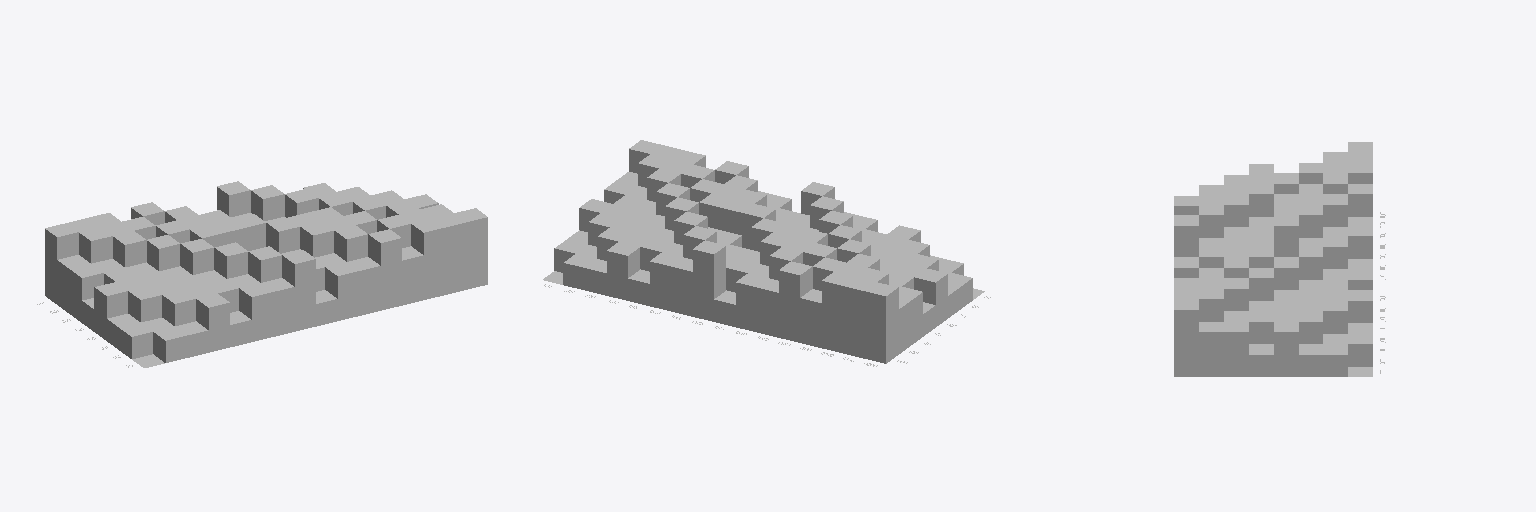
3 renders of one model, left to right at view 1: azimuth 30°, elevation 25°; view 2: azimuth 150°, elevation 25°; view 3: azimuth 270°, elevation 25°, orthographic.
Visible parts, largest first — view 1: Object(8,8)[length_3], Object(12,8)[length_3], Object(14,8)[length_3], Object(15,8)[length_3], Object(16,8)[length_3], Object(1,1)[length_3], Object(10,8)[length_2], Object(4,8)[length_2], Object(6,8)[length_2], Object(1,5)[length_2], Object(11,8)[length_2], Object(7,8)[length_2] (+27 smaller); view 2: Object(1,1)[length_3], Object(9,1)[length_3], Object(5,1)[length_3], Object(2,1)[length_3], Object(3,1)[length_3], Object(13,1)[length_2], Object(1,5)[length_2], Object(7,1)[length_2], Object(11,1)[length_2], Object(6,1)[length_2], Object(10,1)[length_2], Object(4,1)[length_2] (+28 smaller); view 3: Object(16,8)[length_3], Object(16,4)[length_2], Object(16,6)[length_2], Object(16,7)[length_2], Object(8,4)[length_3], Object(8,8)[length_3], Object(5,1)[length_3], Object(5,5)[length_3], Object(6,2)[length_3], Object(6,6)[length_3], Object(7,7)[length_3], Object(9,1)[length_3] (+23 smaller).
Part boxes in pixels (x1,y1,x2,y2): Object(8,8)[length_3]: (282,250,315,331); Object(12,8)[length_3]: (368,229,401,310); Object(14,8)[length_3]: (411,219,444,299); Object(15,8)[length_3]: (433,213,466,294); Object(16,8)[length_3]: (455,208,487,289); Object(1,1)[length_3]: (45,223,78,303); Object(10,8)[length_2]: (325,262,358,320); Object(4,8)[length_2]: (196,294,229,352); Object(6,8)[length_2]: (239,283,272,341); Object(1,5)[length_2]: (94,282,127,340); Object(11,8)[length_2]: (347,257,380,315); Object(7,8)[length_2]: (261,278,294,336); Object(1,1)[length_3]: (865,282,898,363); Object(9,1)[length_3]: (693,240,725,321); Object(5,1)[length_3]: (779,261,812,342); Object(2,1)[length_3]: (843,277,876,358); Object(3,1)[length_3]: (822,272,854,352); Object(13,1)[length_2]: (607,242,639,300); Object(1,5)[length_2]: (914,268,947,326); Object(7,1)[length_2]: (736,273,768,331); Object(11,1)[length_2]: (650,252,682,310); Object(6,1)[length_2]: (757,278,778,337); Object(10,1)[length_2]: (671,257,692,316); Object(4,1)[length_2]: (800,289,821,347); Object(16,8)[length_3]: (1174,299,1198,376); Object(16,4)[length_2]: (1274,322,1298,376); Object(16,6)[length_2]: (1224,322,1248,376); Object(16,7)[length_2]: (1199,322,1223,376); Object(8,4)[length_3]: (1274,215,1298,256); Object(8,8)[length_3]: (1174,215,1198,256); Object(5,1)[length_3]: (1348,184,1372,216); Object(5,5)[length_3]: (1249,184,1273,216); Object(6,2)[length_3]: (1323,194,1347,226); Object(6,6)[length_3]: (1224,194,1248,226); Object(7,7)[length_3]: (1199,205,1223,237); Object(9,1)[length_3]: (1348,226,1372,258).
Bounding box in the file's own units: 16.69 × 3 × 8.5.